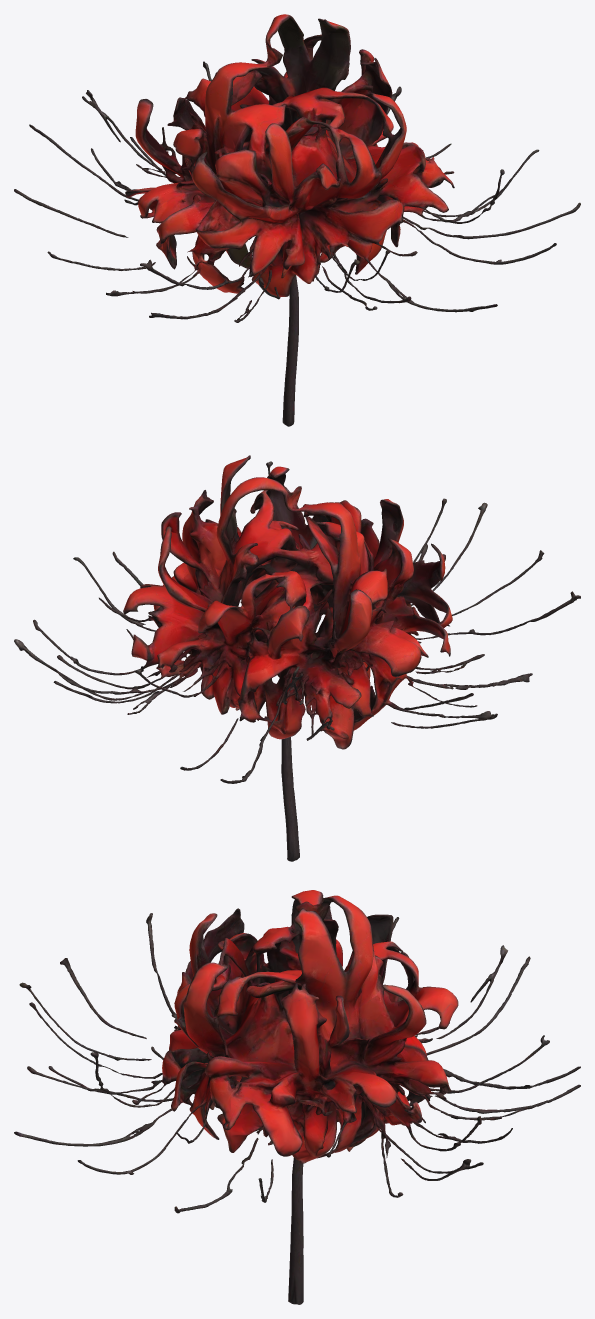
Rendered from lycoris.glb.
3 views of the same model, one above another, from view 1: azimuth 30°, elevation 25°; view 2: azimuth 150°, elevation 25°; view 3: azimuth 270°, elevation 25° (orthographic). The views are drawn at different scales.
Size of the model in its own units: 1.99 by 1.62 by 2.
Materials: 1 (1 with a texture image).
